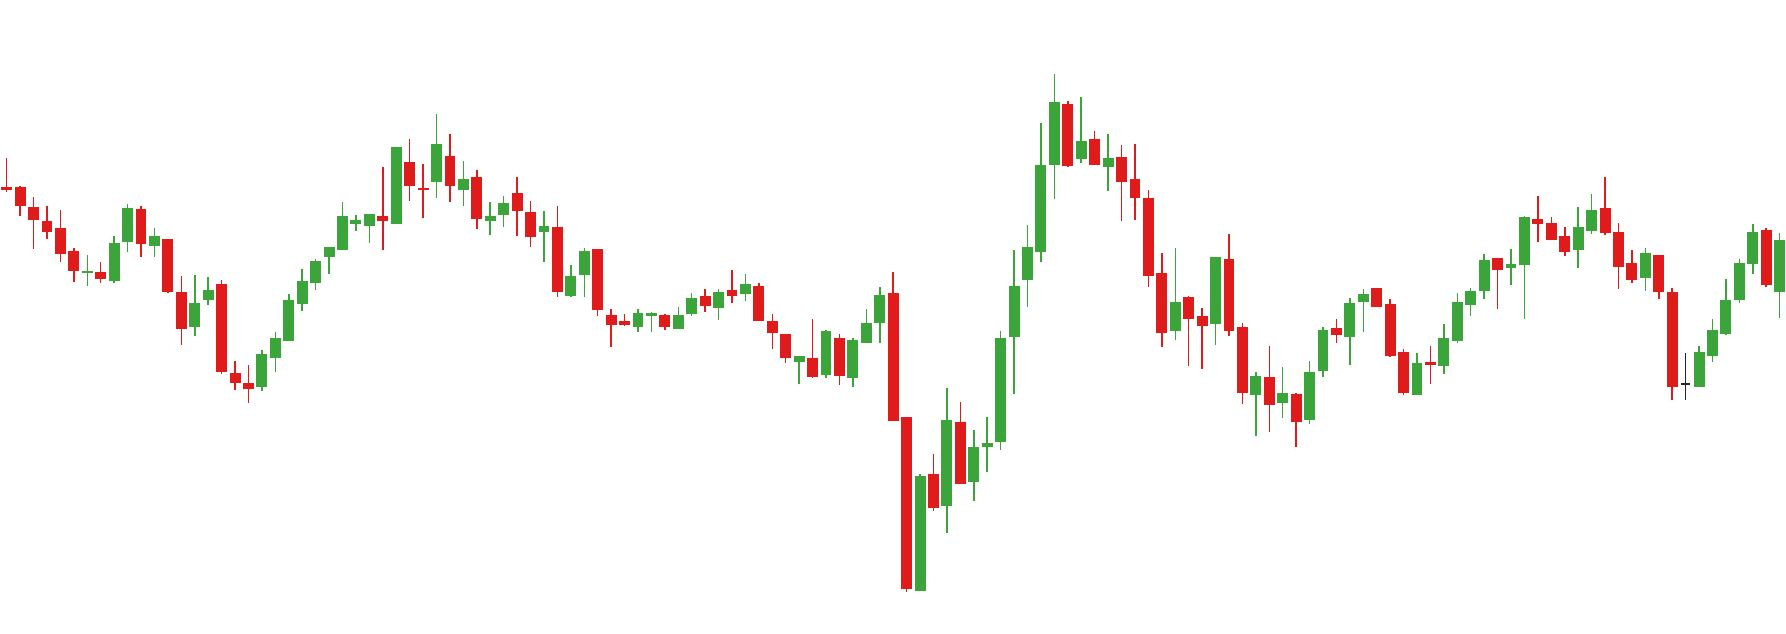sell: (428, 75, 1076, 307), (1531, 178, 1609, 257)
